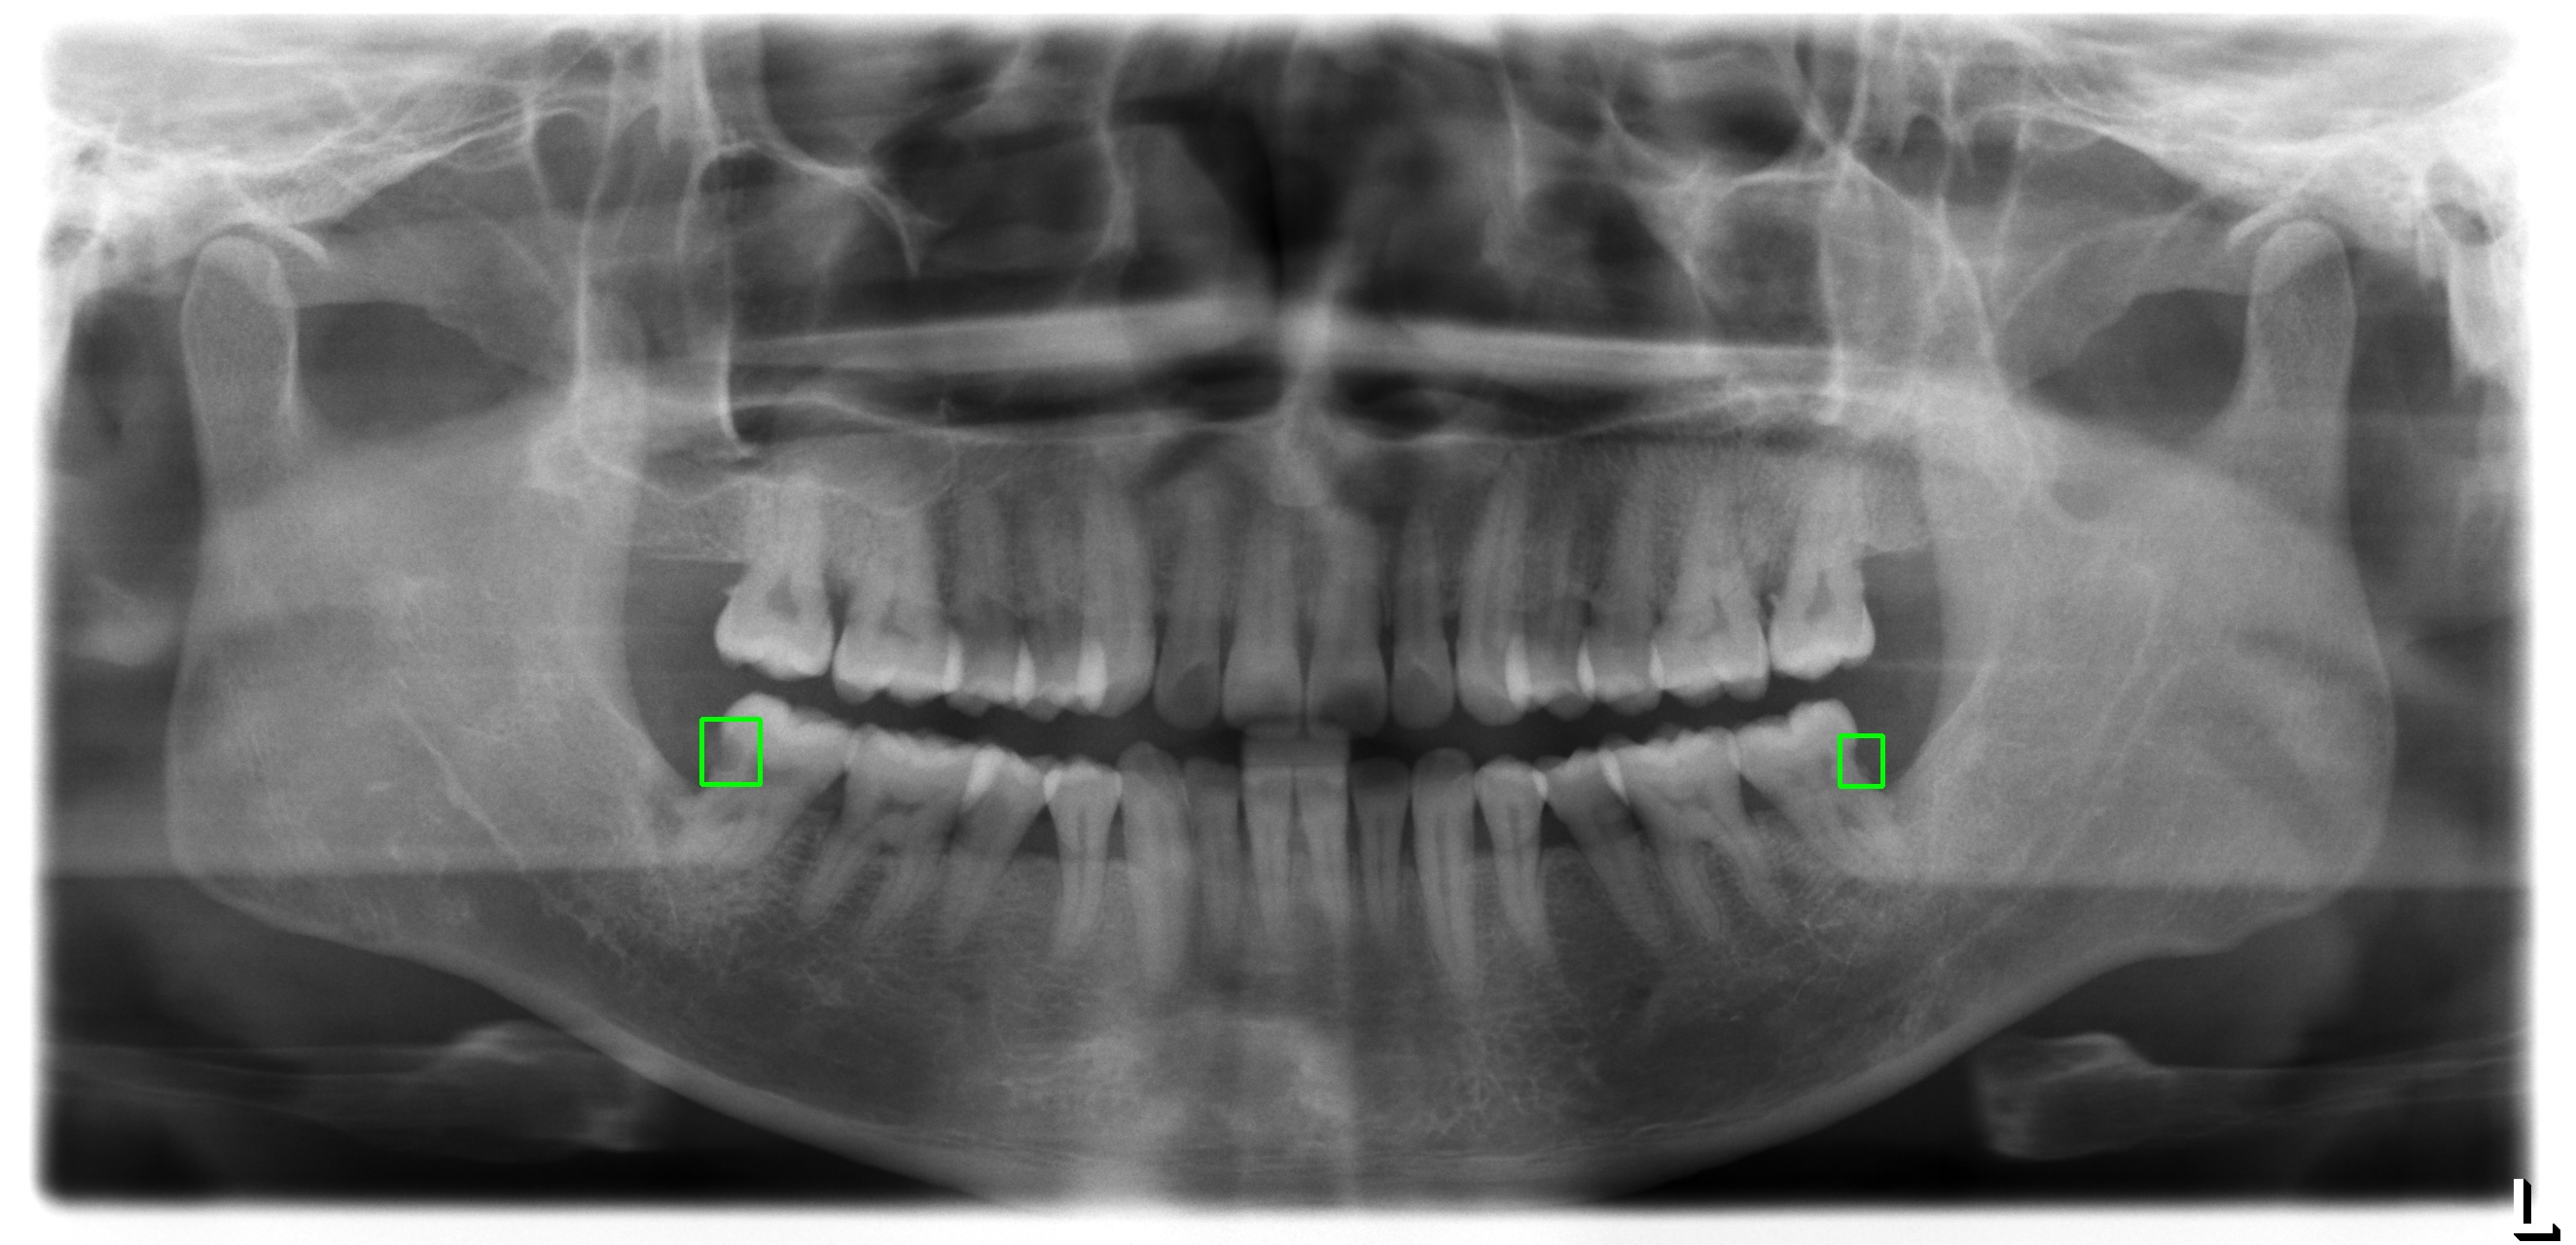Decay: (701, 719, 759, 783), (1840, 736, 1883, 785)
